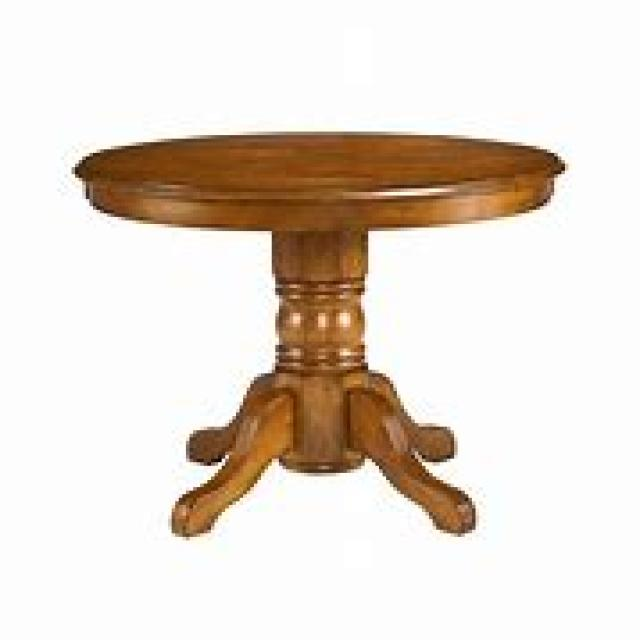table: (68, 128, 565, 537)
